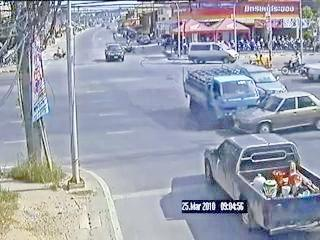Car: (204, 133, 318, 235), (181, 67, 261, 118), (234, 91, 319, 134), (233, 63, 286, 96), (189, 42, 238, 64), (104, 43, 125, 61), (117, 27, 137, 39)
Major Accident: (179, 59, 319, 137)
